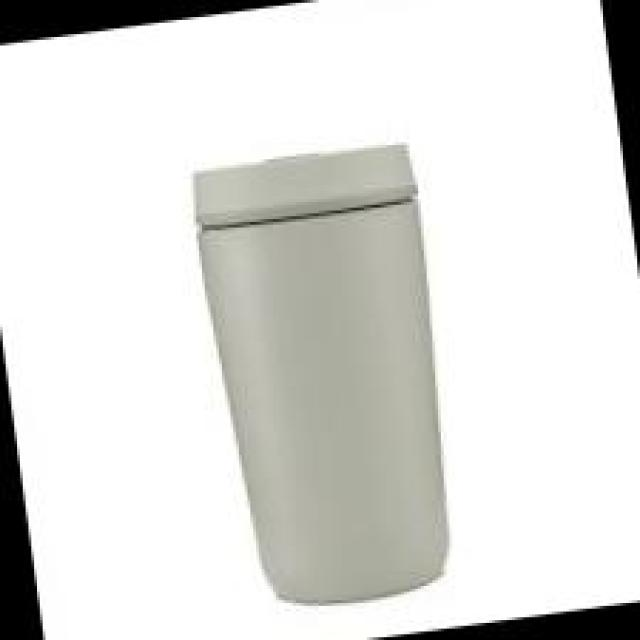bottle: (182, 132, 472, 616)
